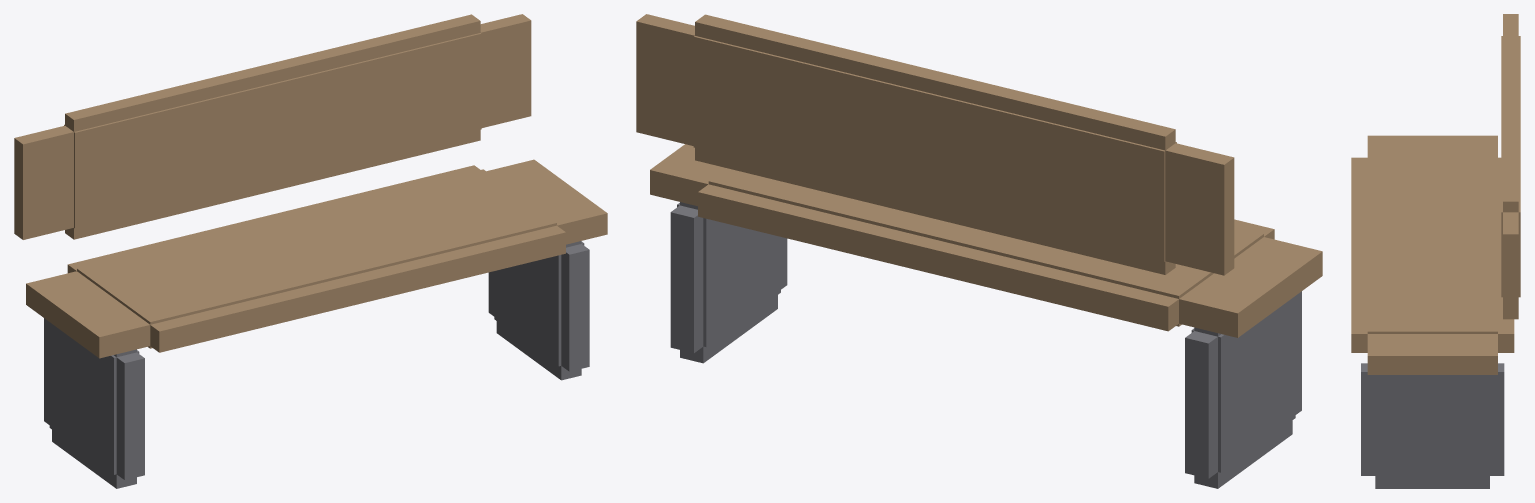
File: env_common_bench.glb
The picture shows the model from 3 angles, left to right: view 1: azimuth 30°, elevation 25°; view 2: azimuth 150°, elevation 25°; view 3: azimuth 270°, elevation 25°; orthographic projection. The views are drawn at different scales.
Parts seen in each view (by area): view 1: box; view 2: box; view 3: box.
Part boxes in pixels (x1,y1,x2,y2): box: (14,14,607,488); box: (636,14,1322,488); box: (1351,14,1520,488).
Size of the model in its own units: 1.6 by 0.93 by 0.52.
